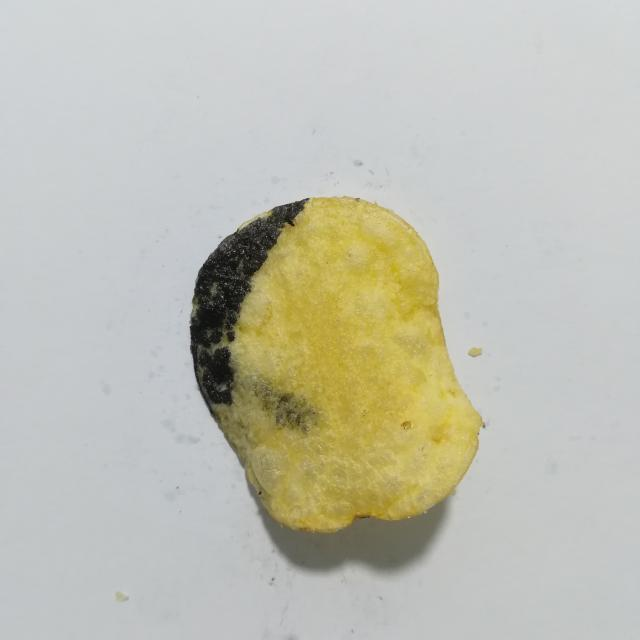chip: (190, 197, 482, 532)
damaged: (190, 198, 309, 412)
semi-damaged: (234, 359, 316, 432), (210, 391, 261, 495)
